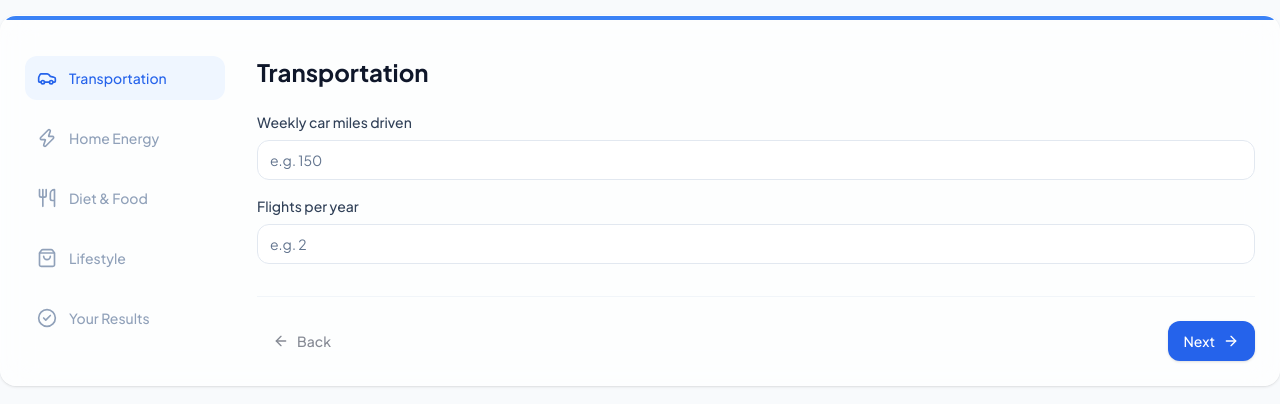
it: Calculator › navigates back on Back click
The image size is (1280, 404).
Go to step 2
Step 1. Click the button "Next" → click(1211, 341), box [1168,321,1255,361]
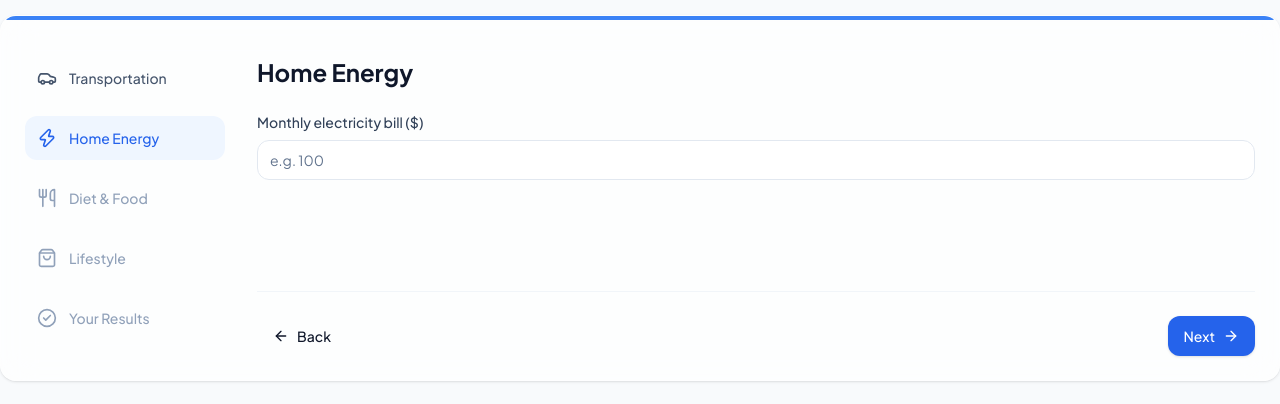
Expected: the heading "Home Energy" is shown, [257,57,413,87]
 Go back
Step 2. Click the button "Back" → click(302, 336), box [257,316,347,356]
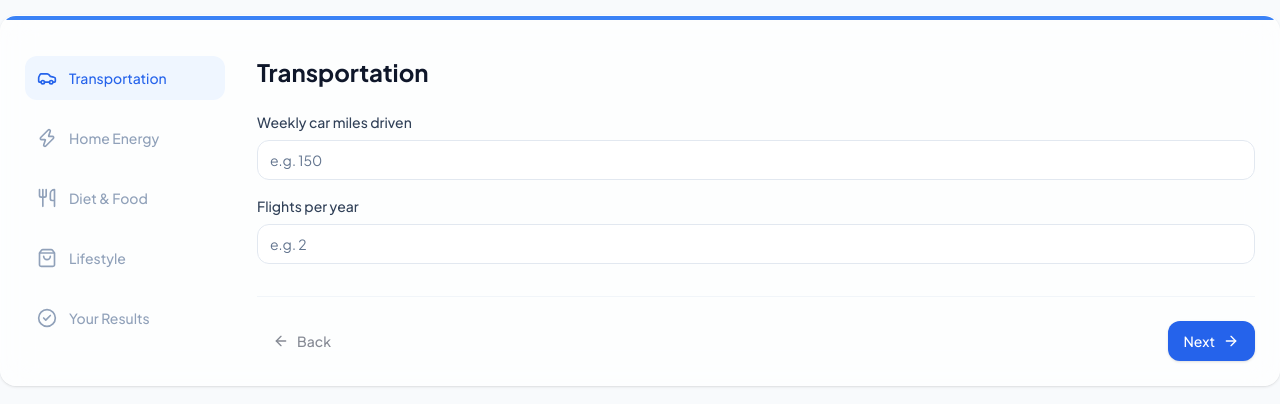
Expected: the heading "Transportation" is shown, [257,57,428,87]
